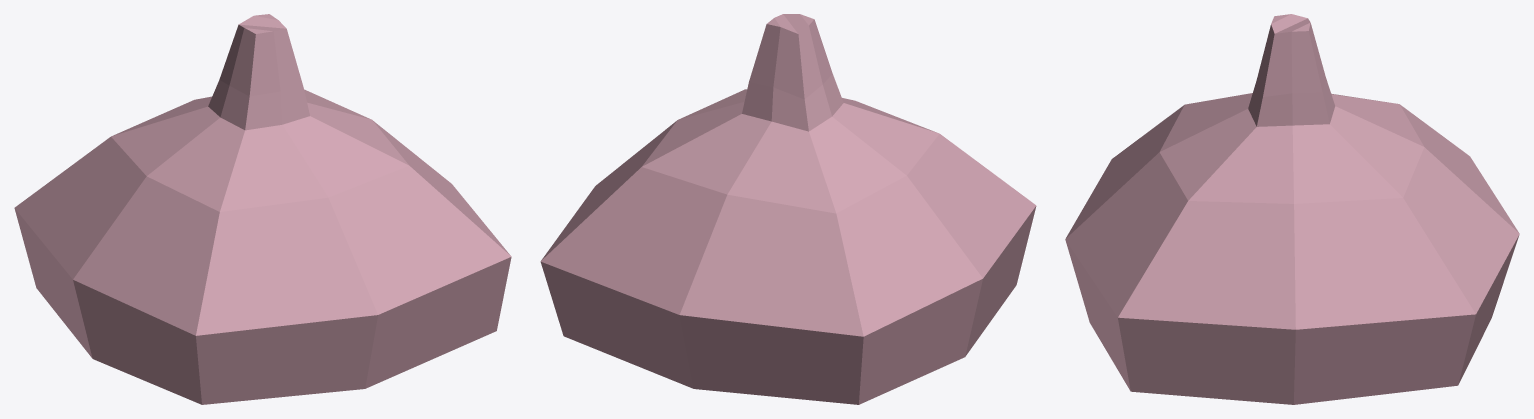
The model's file is garlicBulb.fbx.
The picture shows the model from 3 angles, left to right: view 1: azimuth 30°, elevation 25°; view 2: azimuth 150°, elevation 25°; view 3: azimuth 270°, elevation 25°; orthographic projection.
Parts seen in each view (by area): view 1: garlicBulb; view 2: garlicBulb; view 3: garlicBulb.
Boxes of the visible parts, <box> form: garlicBulb: <box>14,14,511,404</box>; garlicBulb: <box>540,14,1036,404</box>; garlicBulb: <box>1065,14,1519,404</box>.
Size of the model in its own units: 5.32 by 4.53 by 5.4.
1 material, 1 textured.
